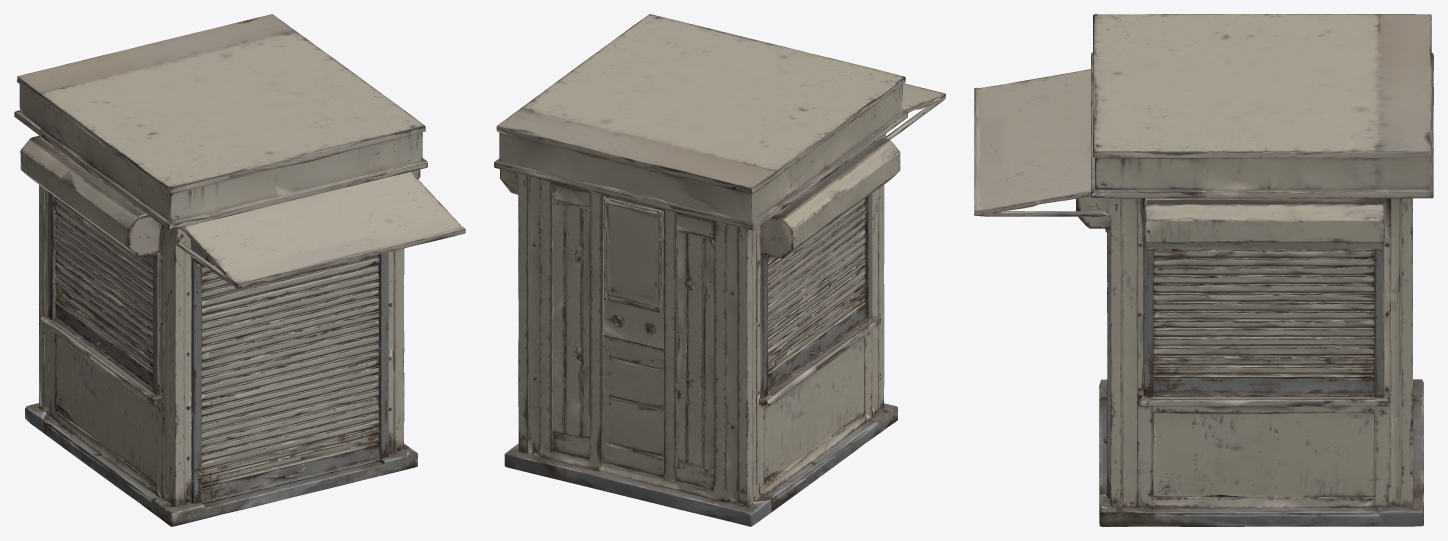
File: kiosque.glb
3 views of the same model, side by side, from view 1: azimuth 30°, elevation 25°; view 2: azimuth 150°, elevation 25°; view 3: azimuth 270°, elevation 25° (orthographic). The views are drawn at different scales.
Bounding box in the file's own units: 1.54 × 1.73 × 1.9.
Materials: 1 (1 with a texture image).
